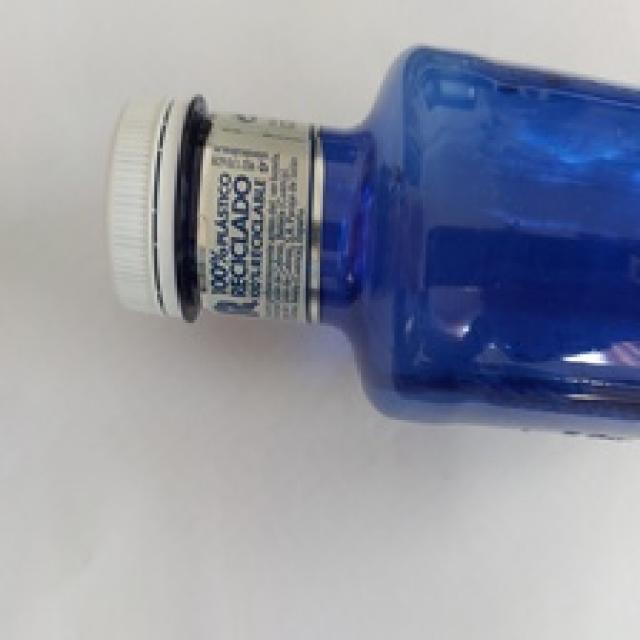Plastic: (103, 42, 640, 449)
